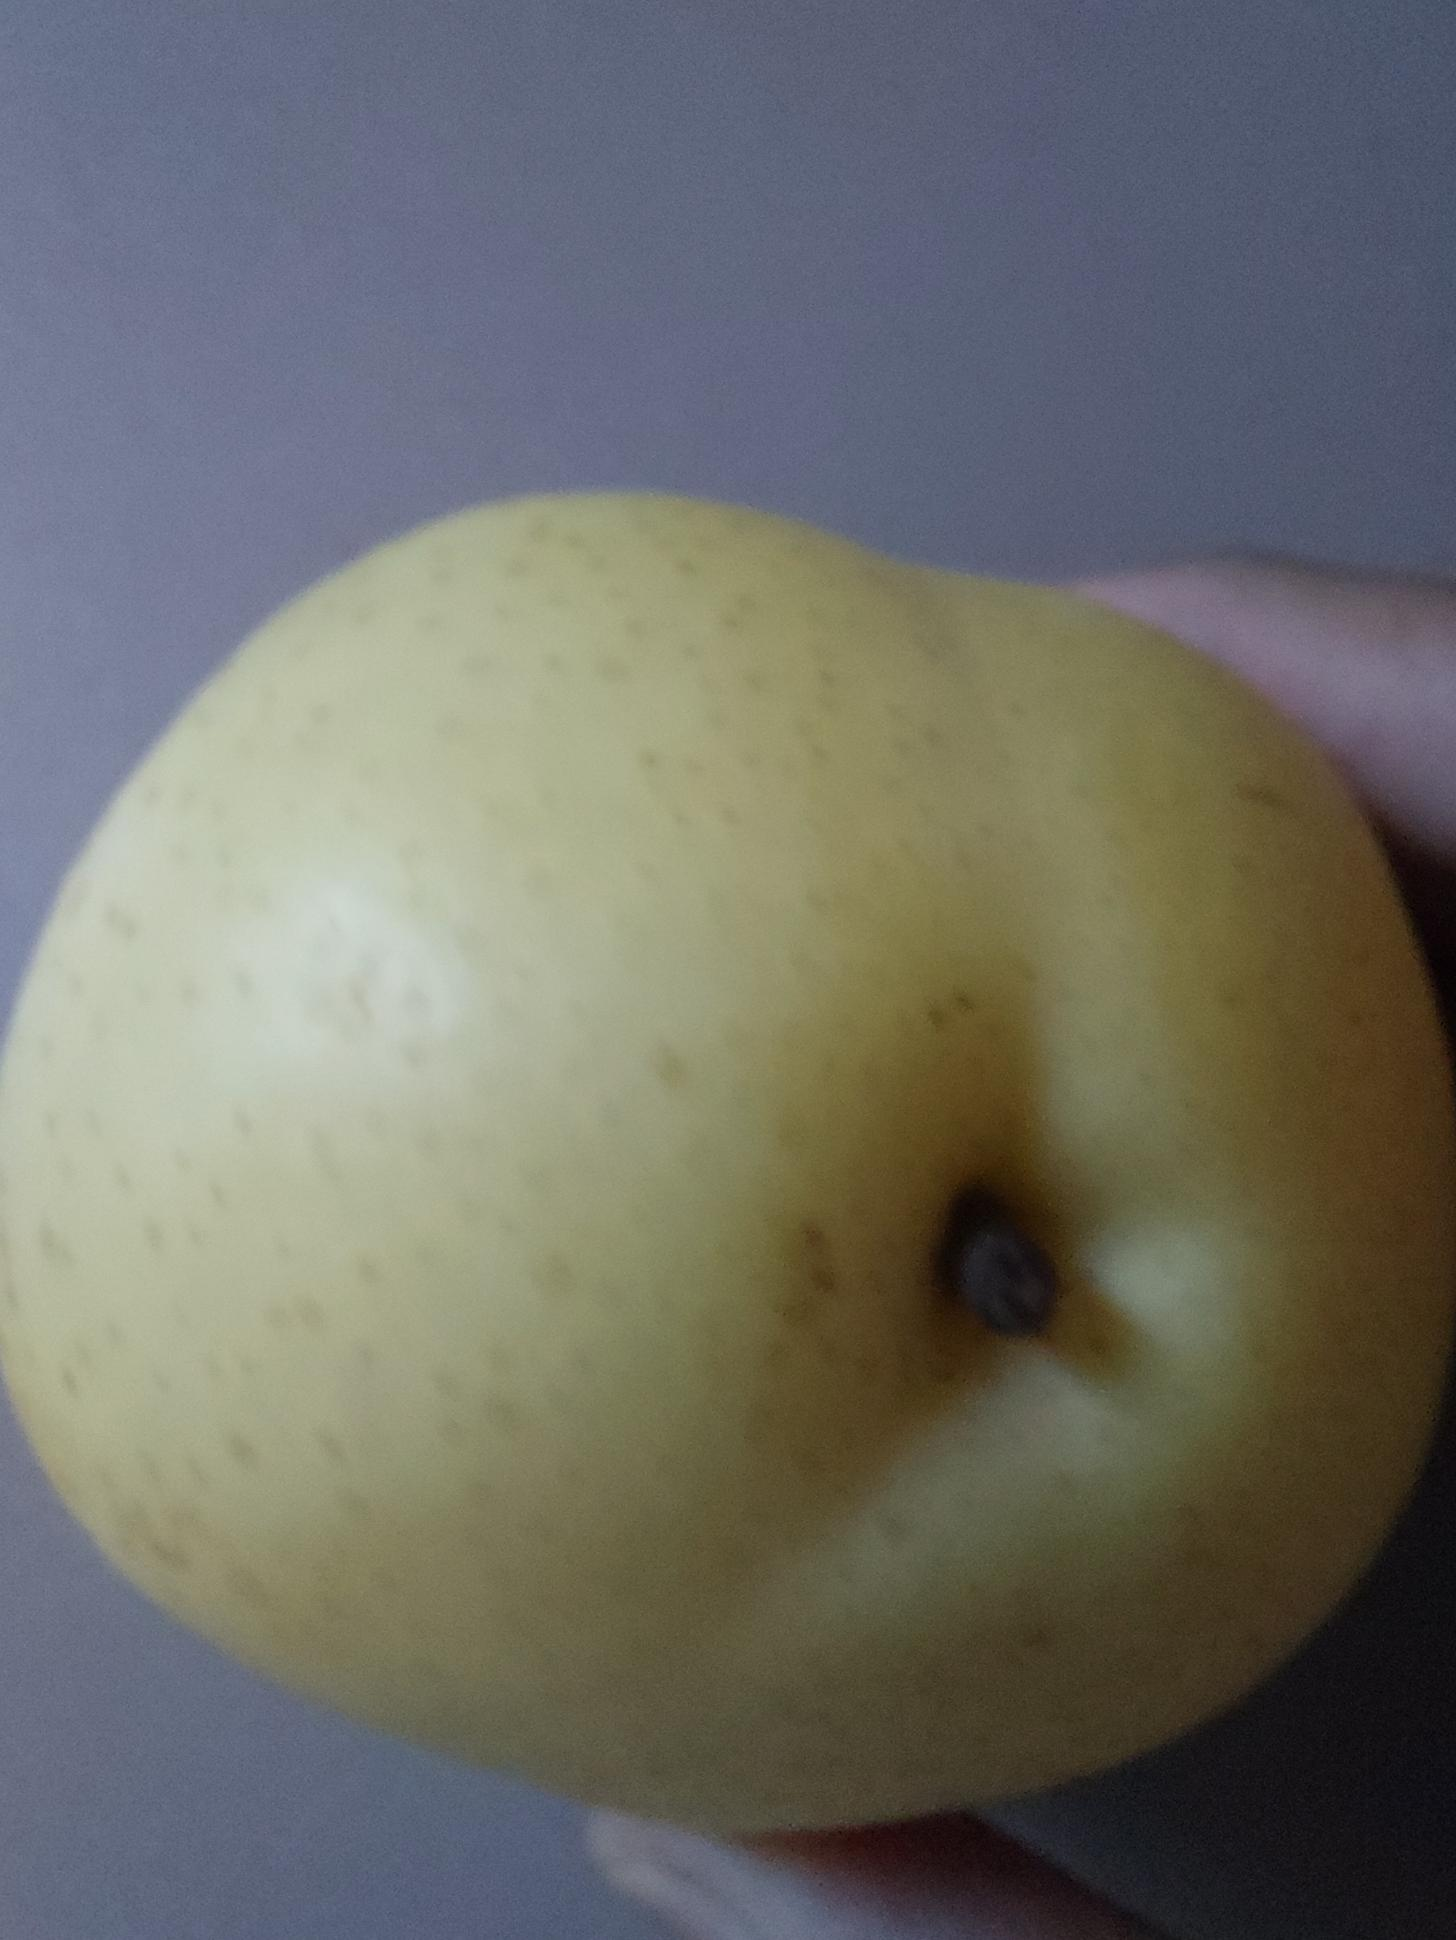Good Pear: (0, 492, 1456, 1819)
